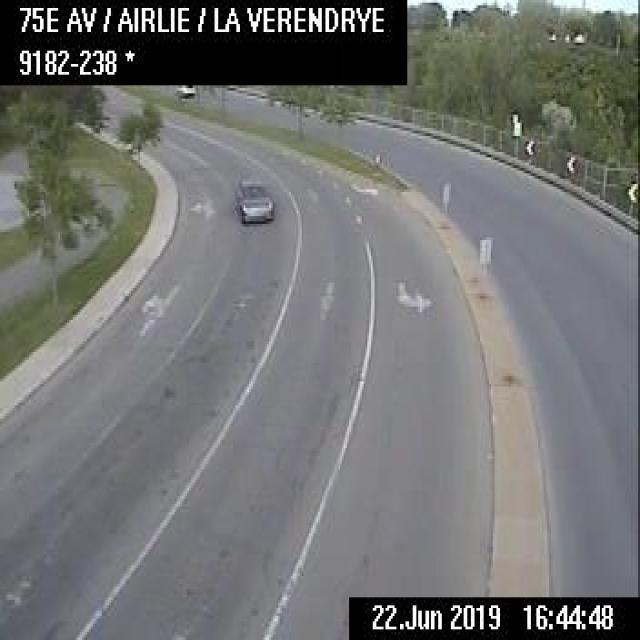vehicle: (232, 172, 274, 223), (172, 83, 196, 100)
